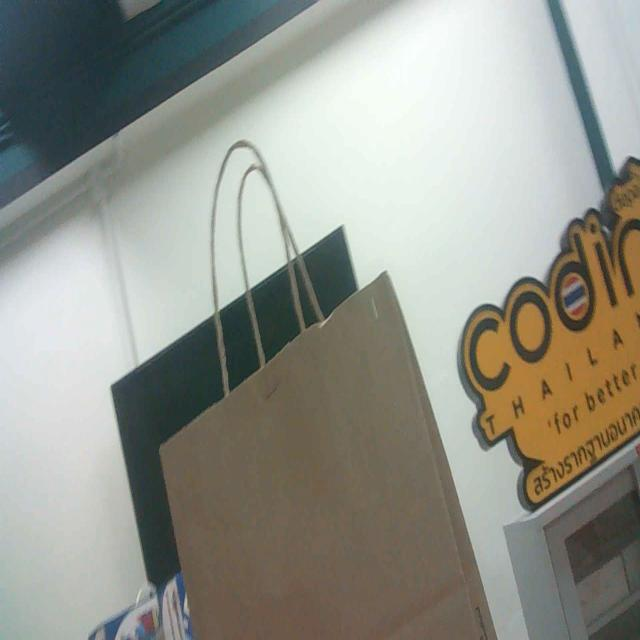bag: (158, 340, 504, 640)
